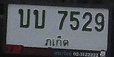txt21: (32, 8, 47, 30), (17, 8, 31, 28)
